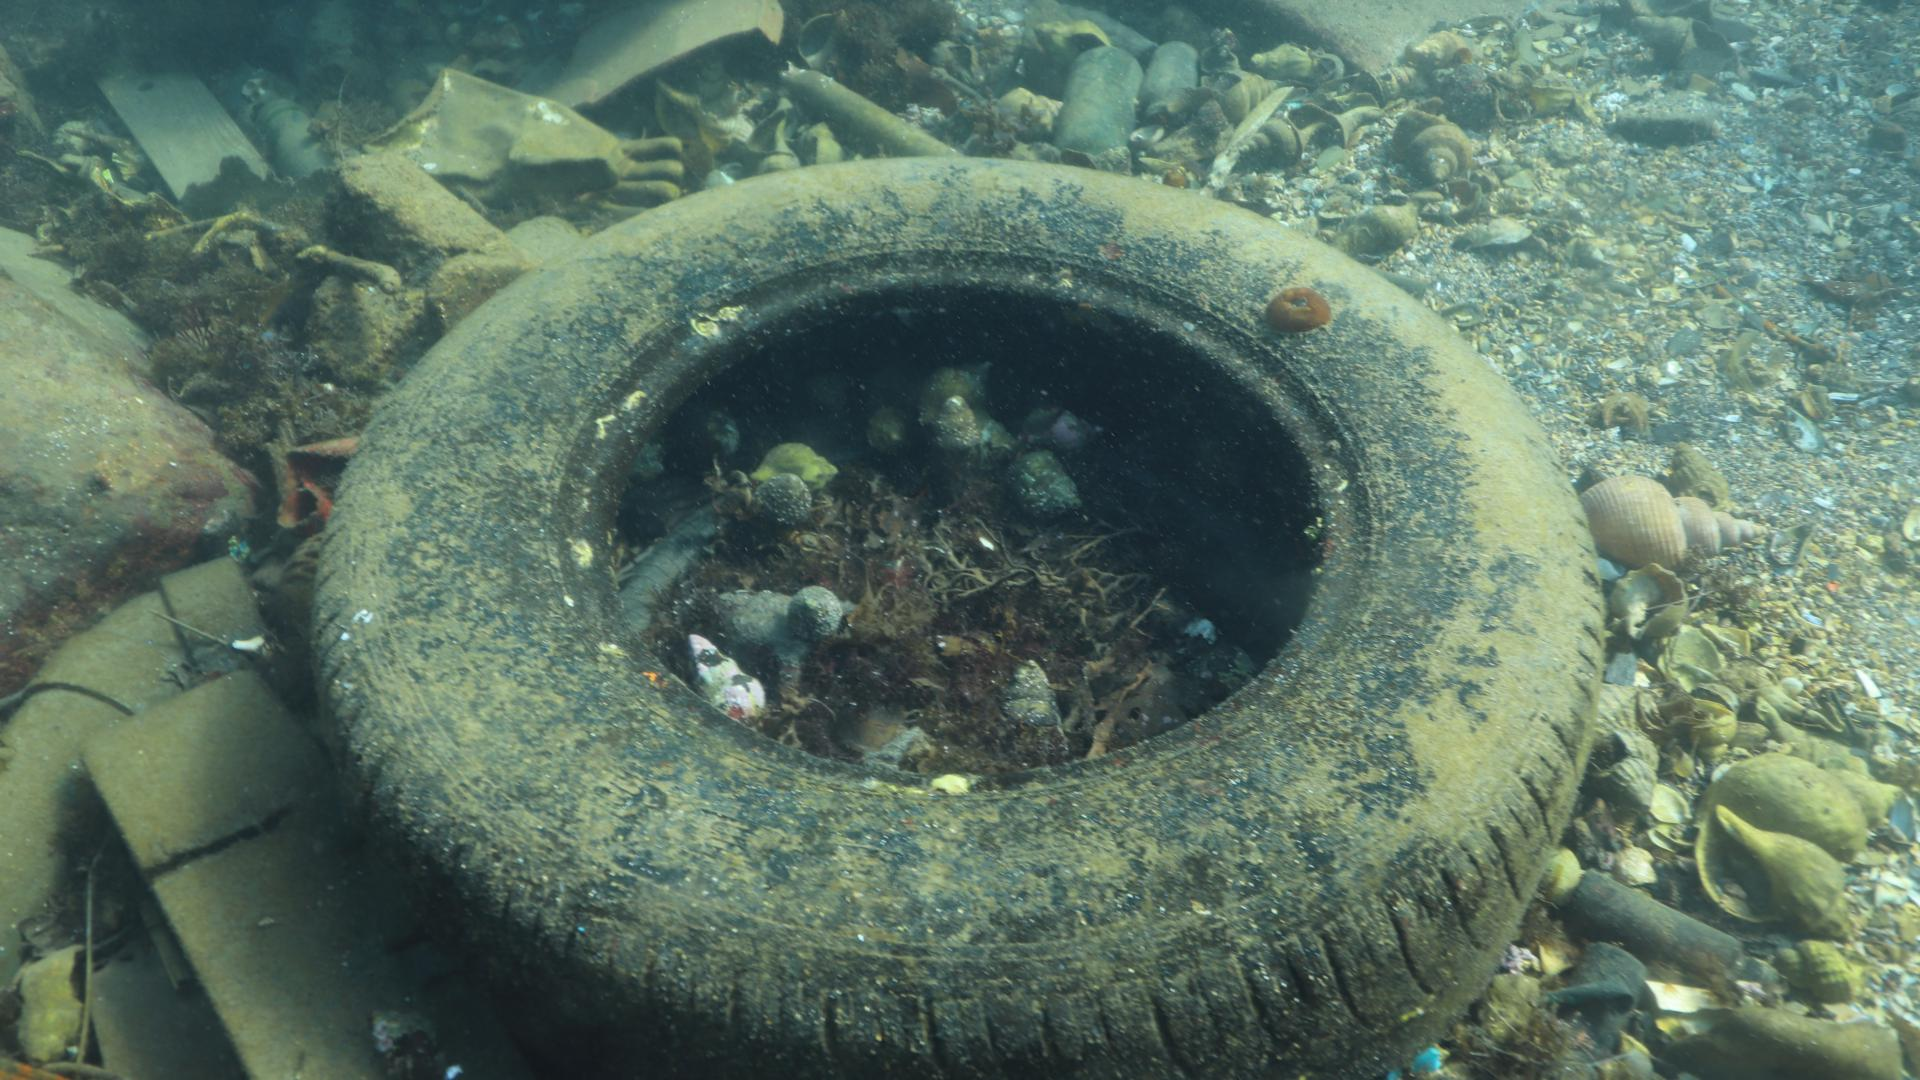tire: (309, 152, 1611, 1080)
wood: (76, 653, 495, 1080)
